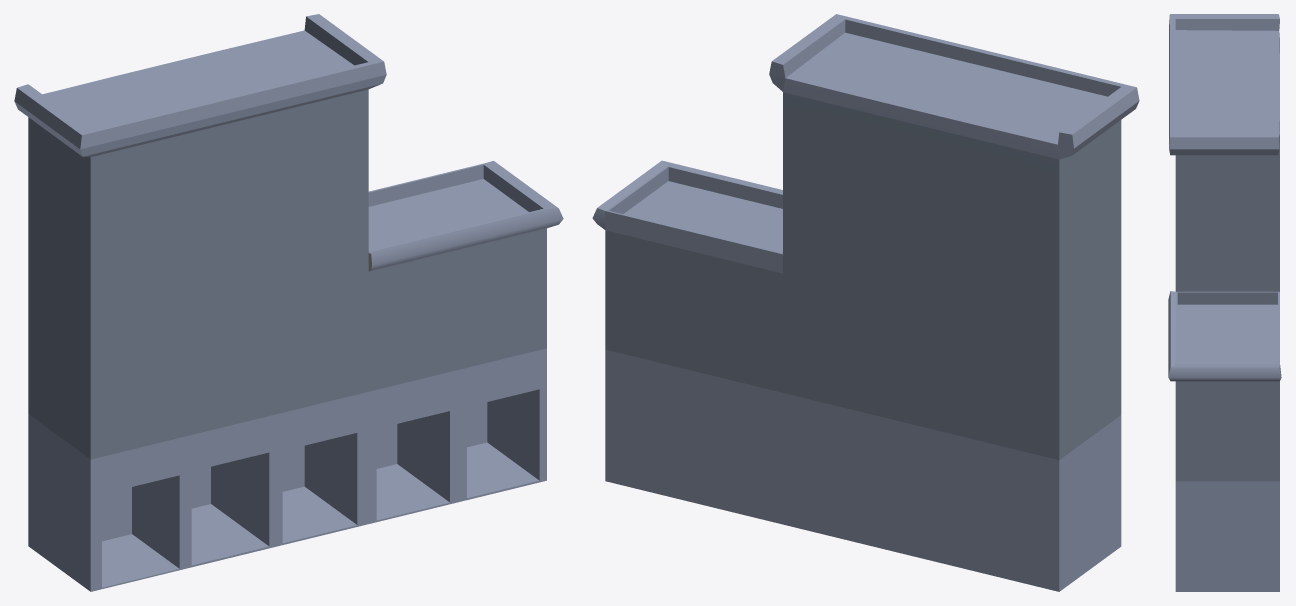
Rendered from building_L_3floors.fbx.
3 renders of one model, left to right at view 1: azimuth 30°, elevation 25°; view 2: azimuth 150°, elevation 25°; view 3: azimuth 270°, elevation 25°, orthographic. The views are drawn at different scales.
Parts seen in each view (by area): view 1: building_L_3floors; view 2: building_L_3floors; view 3: building_L_3floors.
Part boxes in pixels (x1,y1,x2,y2): building_L_3floors: (14, 14, 563, 591); building_L_3floors: (592, 14, 1139, 591); building_L_3floors: (1168, 14, 1281, 591).
Bounding box in the file's own units: 14.01 × 12.81 × 3.4.
